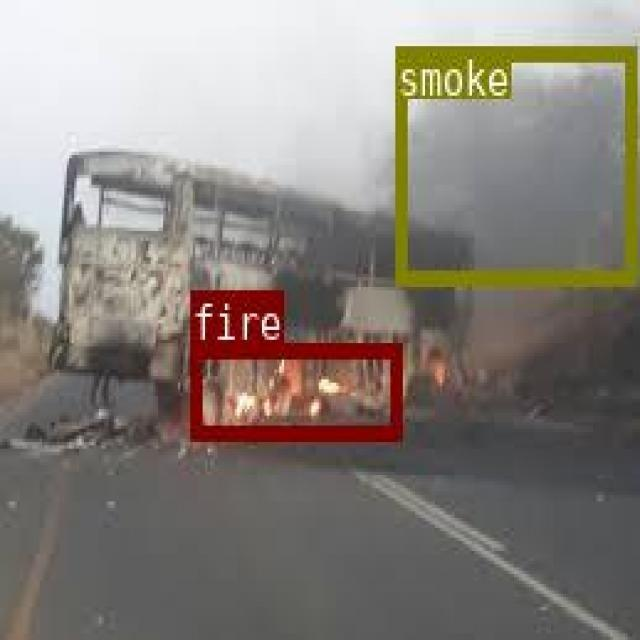fire: (190, 341, 399, 437)
smoke: (393, 43, 634, 282)
